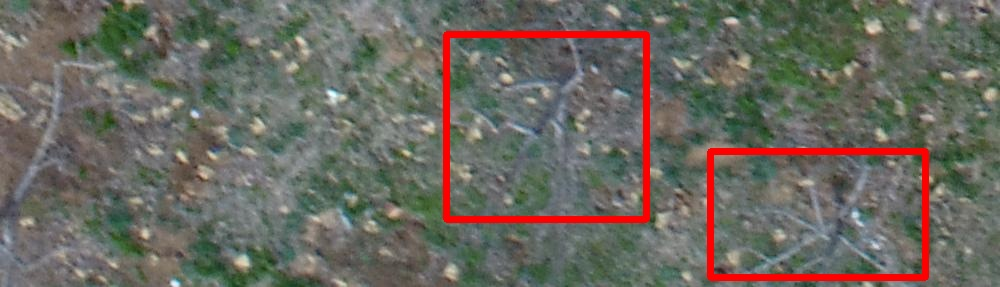apple: (446, 34, 646, 219), (710, 151, 925, 277)
